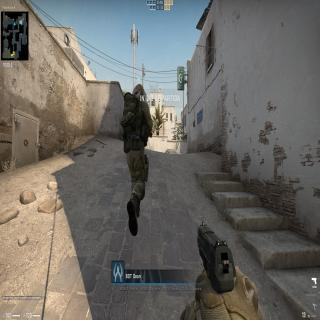CT-Head: (131, 82, 147, 107)
